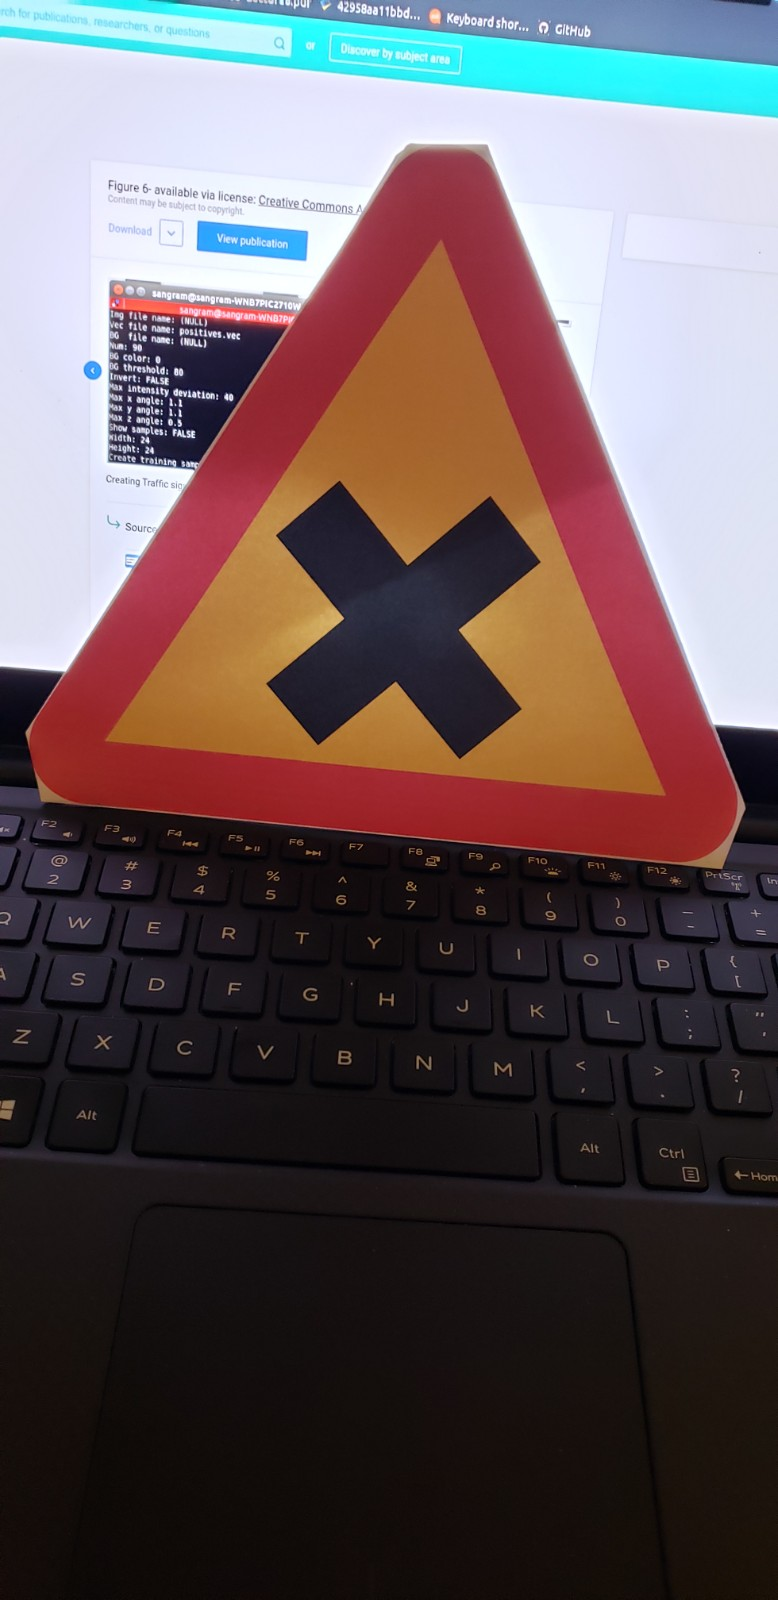junction: (59, 118, 761, 909)
